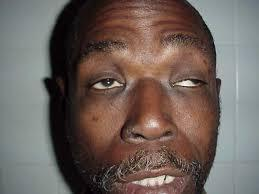strokeEyeSevere: (82, 35, 212, 97)
